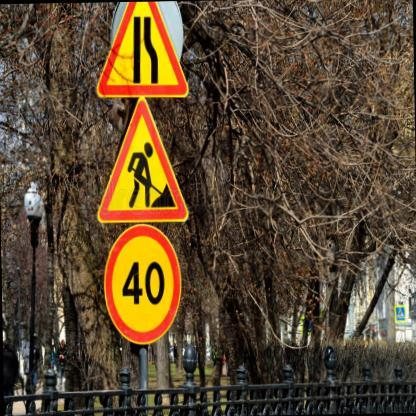road_sign: (98, 98, 188, 223), (95, 0, 191, 98), (105, 224, 181, 345)
